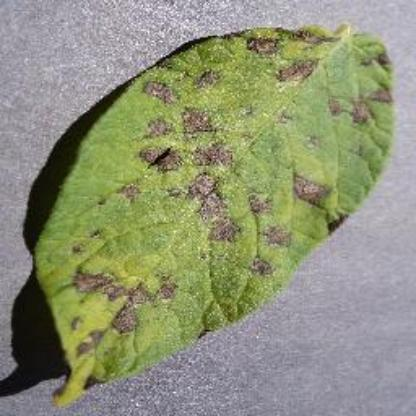Early-Blight: (29, 21, 403, 406)
